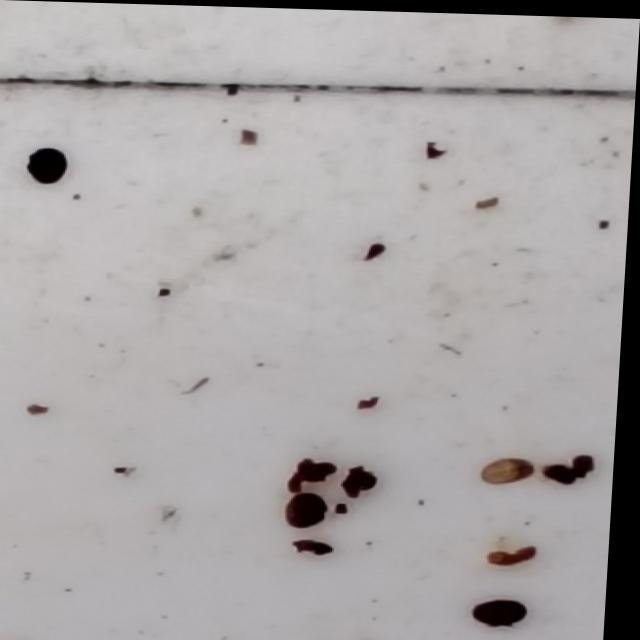varroa: (479, 594, 538, 630), (27, 147, 74, 188), (289, 492, 337, 528)
